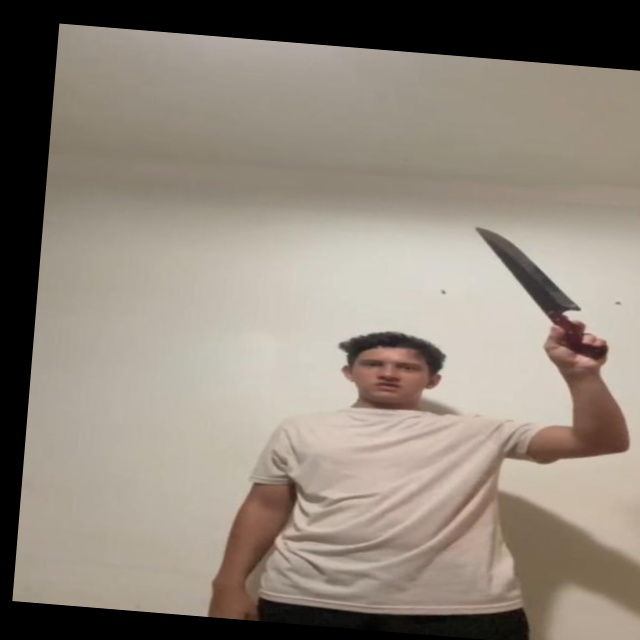Sharp-Object: (466, 227, 586, 317)
